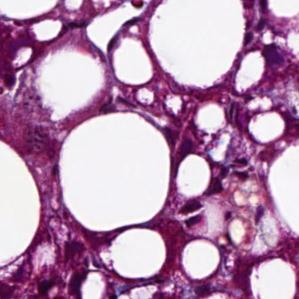inflammation: (261, 34, 297, 77)
